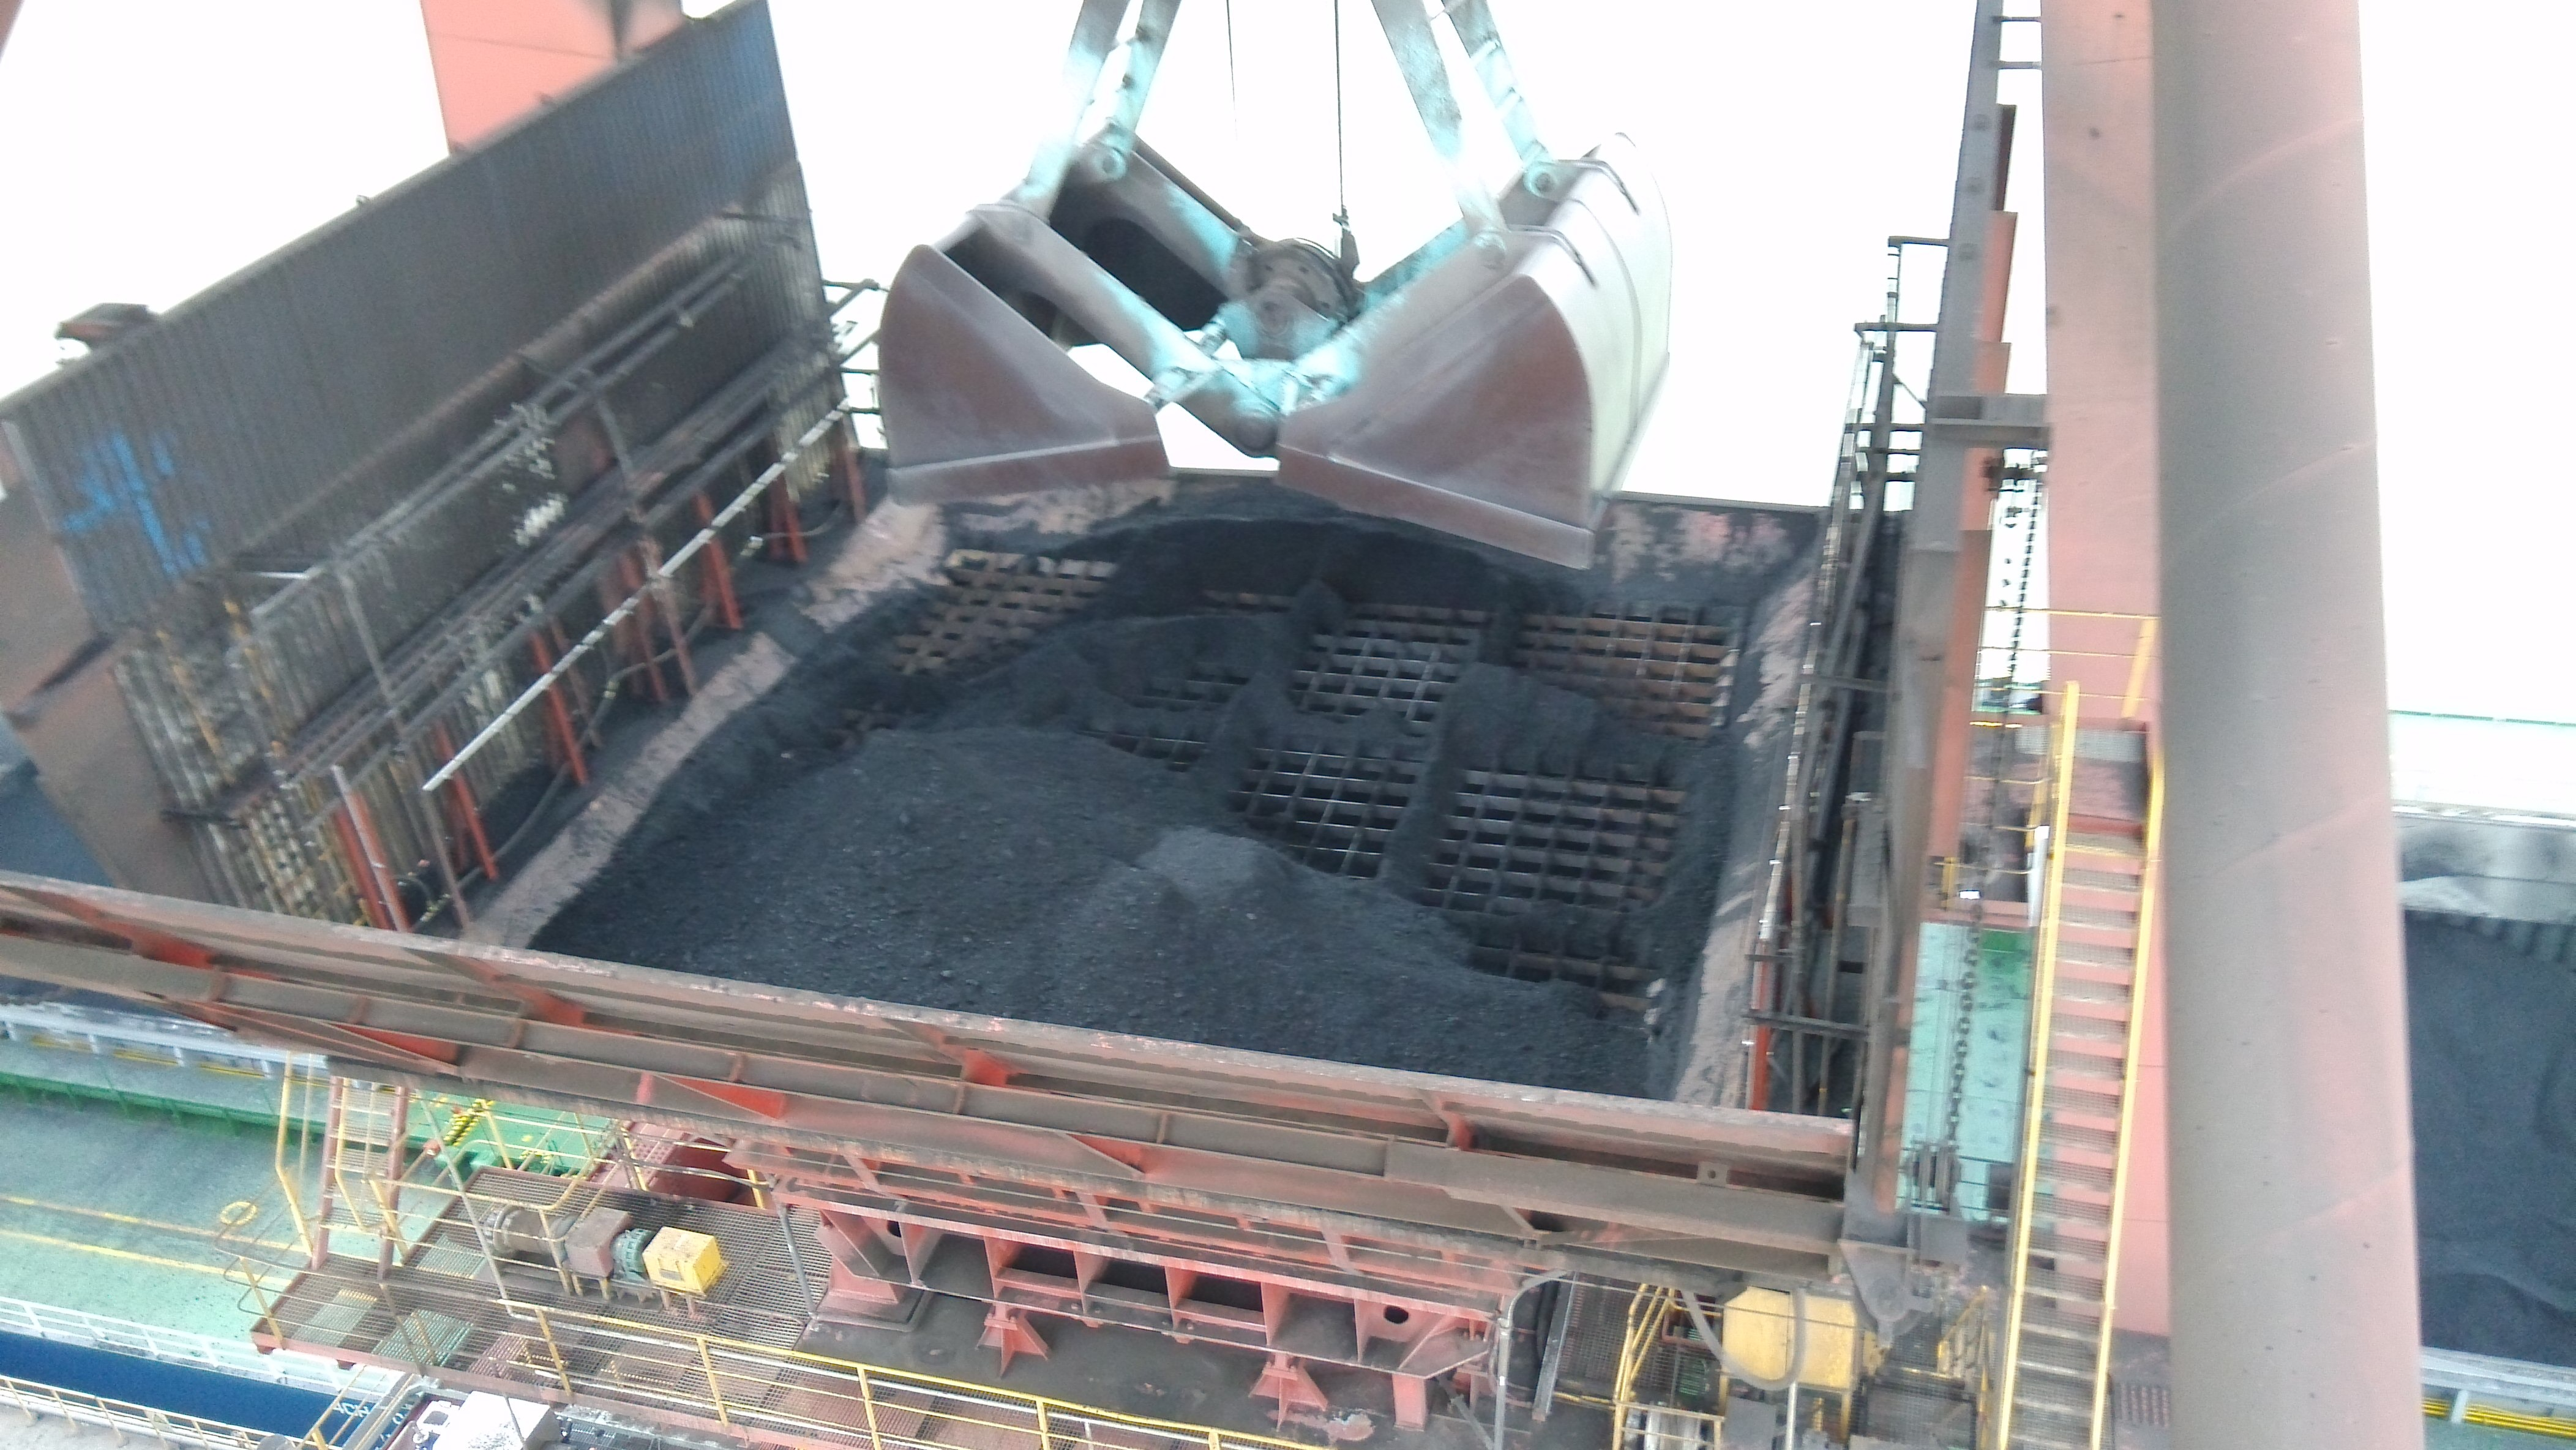grab: (833, 4, 1693, 568)
